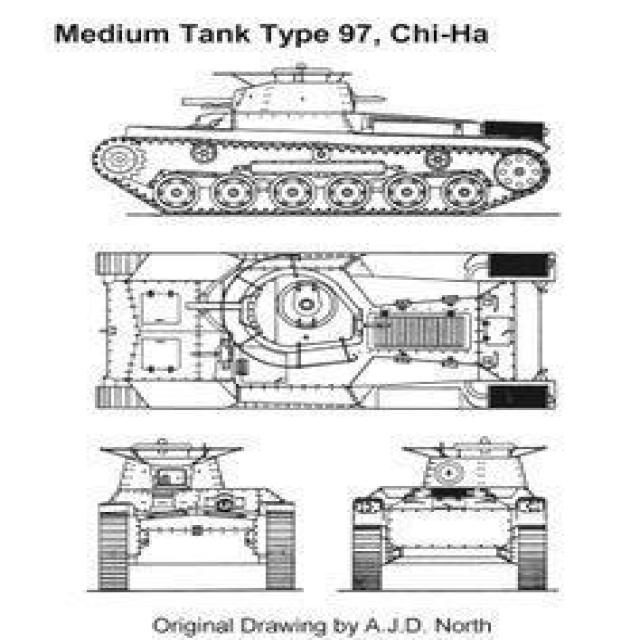Tanks: (92, 248, 556, 418), (94, 72, 546, 212), (102, 435, 300, 609), (361, 431, 545, 593)
